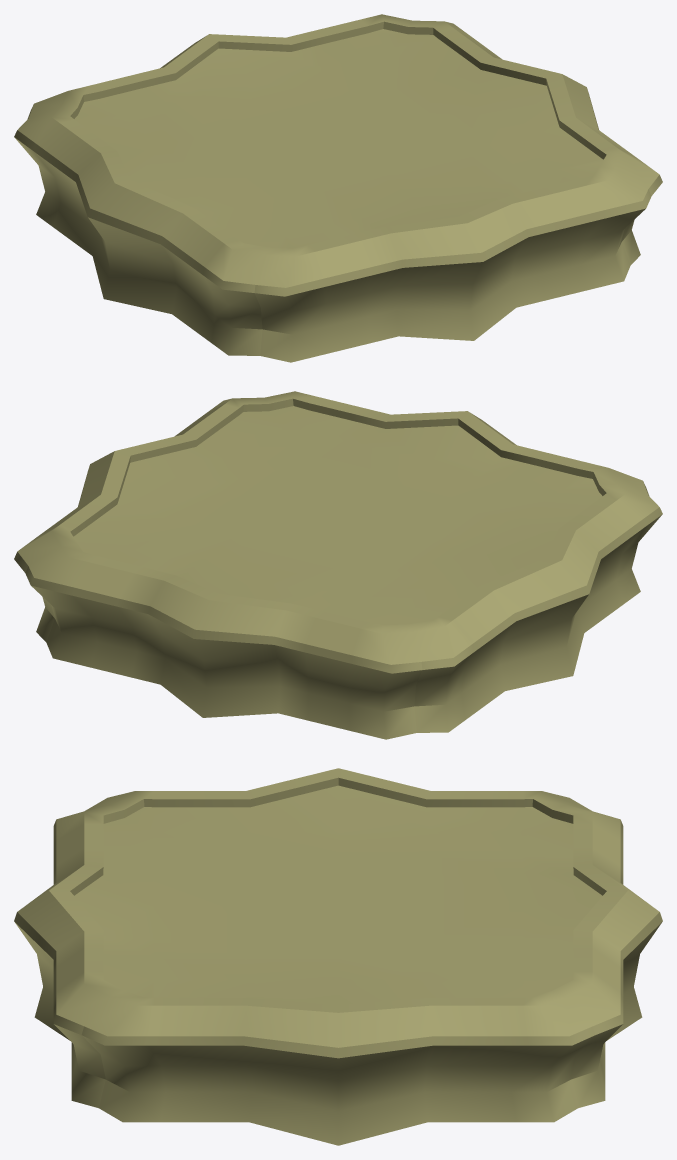
File: champPlatform.fbx
3 renders of one model, top to bottom at view 1: azimuth 30°, elevation 25°; view 2: azimuth 150°, elevation 25°; view 3: azimuth 270°, elevation 25°, orthographic. The views are drawn at different scales.
Parts seen in each view (by area): view 1: champPlatform; view 2: champPlatform; view 3: champPlatform.
Boxes of the visible parts, <box> form: champPlatform: <box>14,14,662,362</box>; champPlatform: <box>14,391,662,739</box>; champPlatform: <box>14,768,662,1145</box>.
Size of the model in its own units: 43.76 by 9.44 by 43.76.
